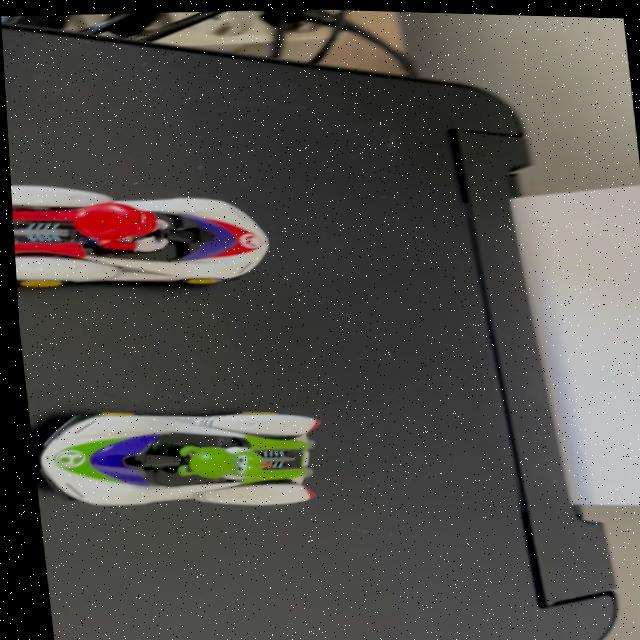mario: (8, 169, 287, 310)
yoshi: (23, 390, 345, 531)
